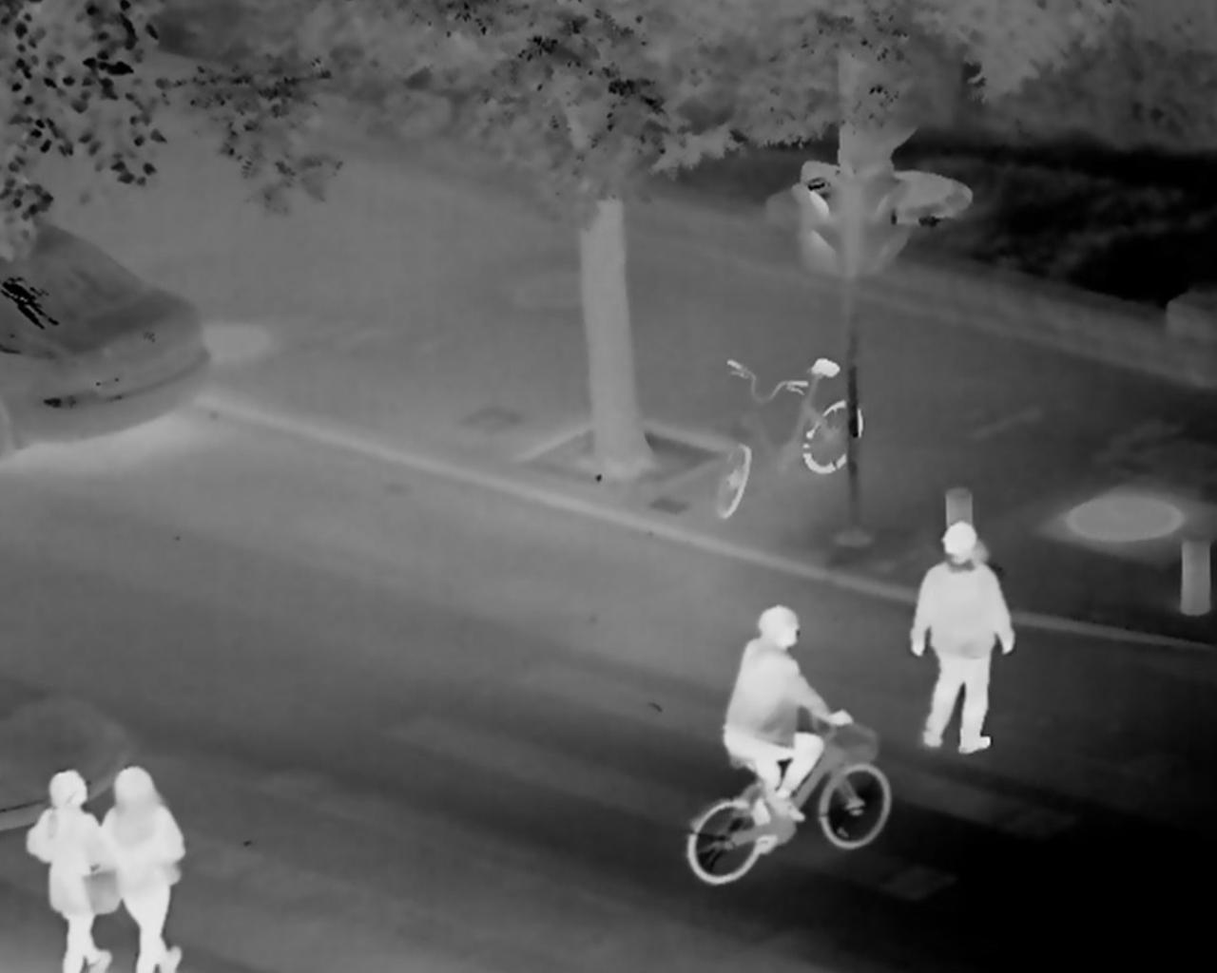person: (724, 603, 854, 858), (909, 522, 1015, 756), (98, 768, 190, 973), (24, 771, 107, 973)
